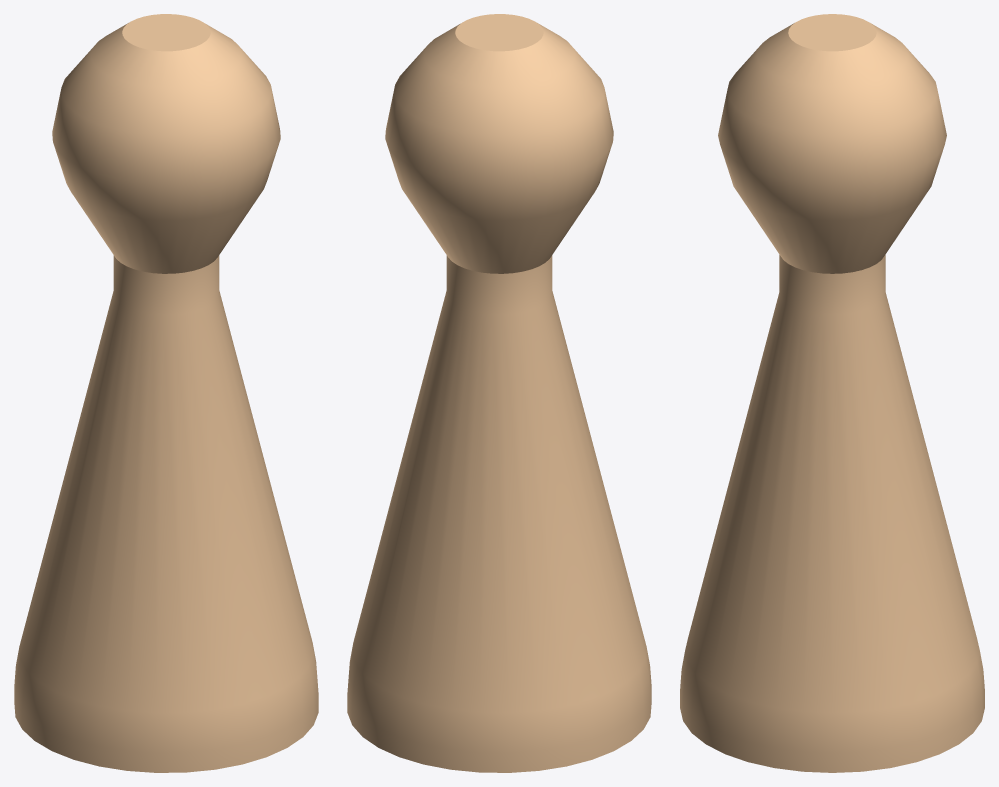
The model's file is piecebeige.fbx.
The picture shows the model from 3 angles, left to right: view 1: azimuth 30°, elevation 25°; view 2: azimuth 150°, elevation 25°; view 3: azimuth 270°, elevation 25°; orthographic projection.
Visible parts, largest first — view 1: PieceBeige; view 2: PieceBeige; view 3: PieceBeige.
Part boxes in pixels (x1,y1,x2,y2): PieceBeige: (14,14,318,772); PieceBeige: (347,14,651,772); PieceBeige: (680,14,984,772).
Size of the model in its own units: 55.11 by 135 by 55.11.
